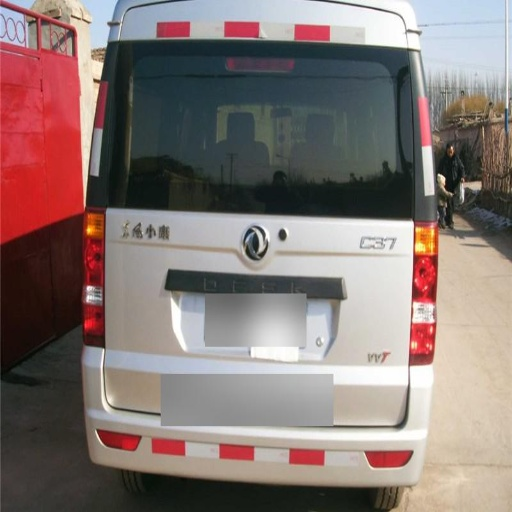back_bumper: (84, 350, 432, 484)
tailgate: (147, 208, 412, 368)
trunk: (272, 222, 417, 425), (110, 213, 238, 412), (316, 78, 394, 127)
